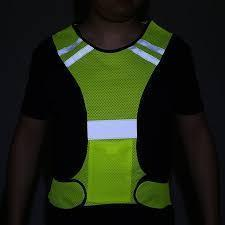Vest: (52, 21, 171, 209)
